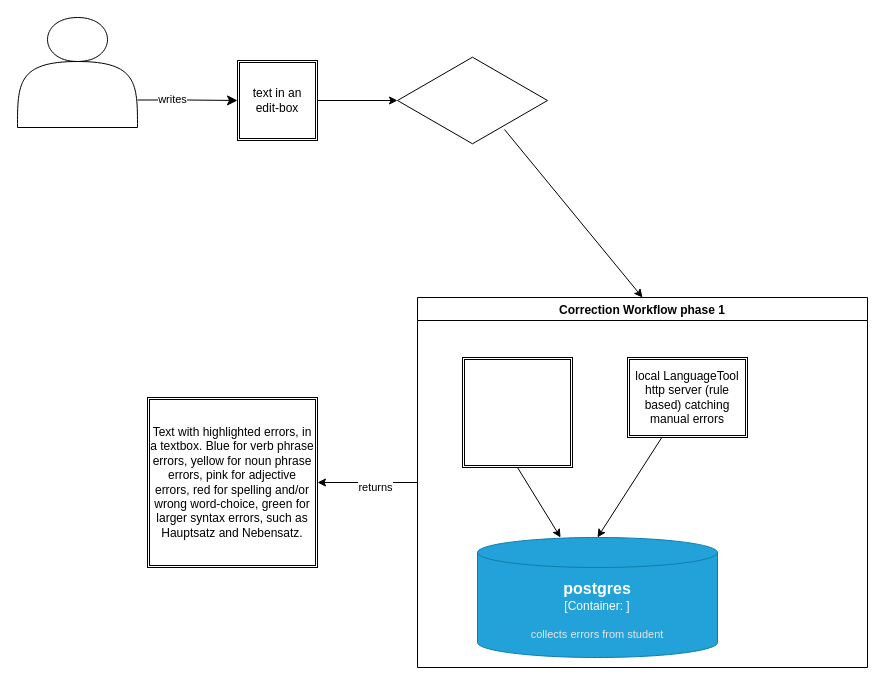
The diagram is 885 pixels wide and 685 high, and some of its shapes have lost their labels. The shapes that lost their labels are listed below. From the top down, each one's centre as x and y in pixels, then its label:
At (x=77, y=72): "student".
At (x=472, y=100): "presses analyze".
At (x=517, y=412): "German local LLM going over text catching more grammar errors".
